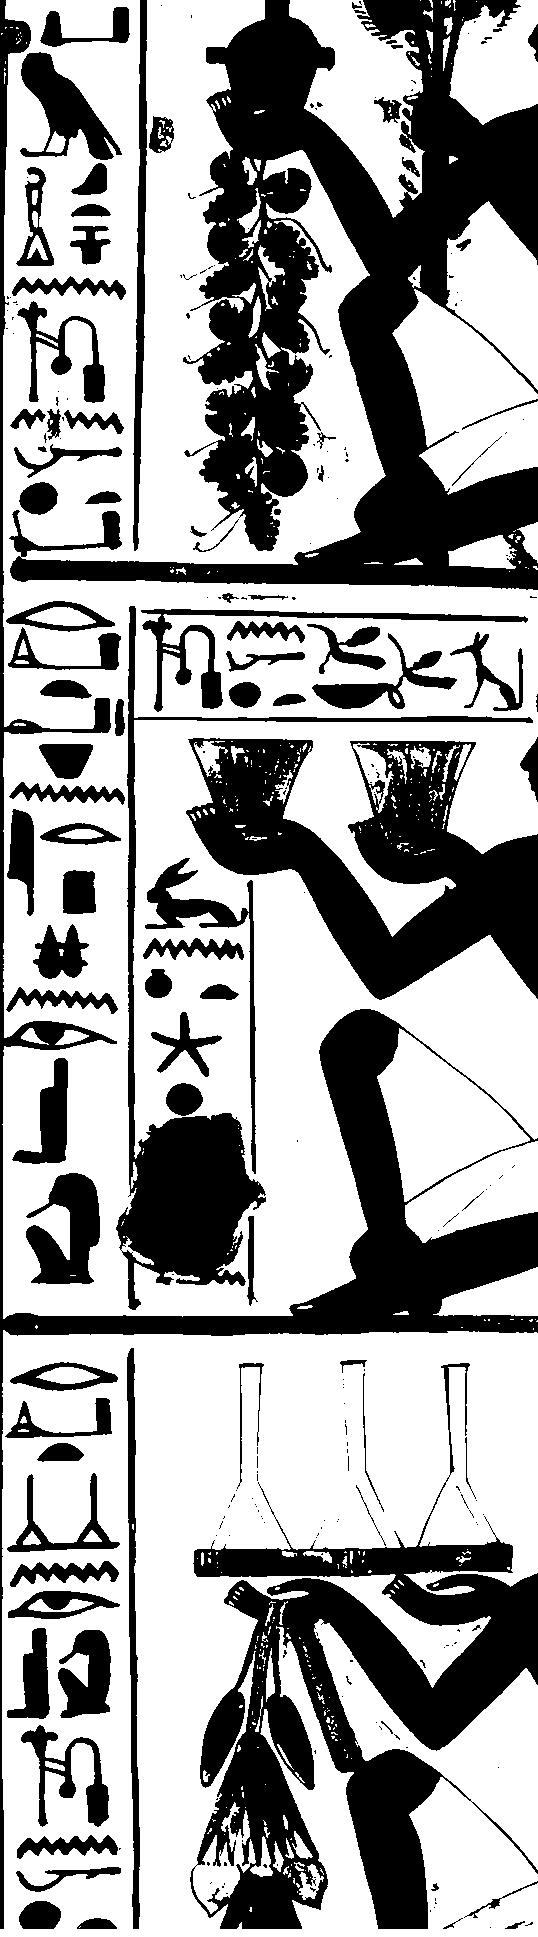Basket: (307, 678, 410, 713)
Mouth: (5, 598, 118, 631), (9, 1359, 122, 1391), (37, 817, 122, 850)
Owl: (16, 49, 130, 158)
Reed: (2, 808, 39, 919)
Water: (6, 982, 120, 1018), (9, 775, 126, 808), (10, 405, 131, 437), (9, 272, 131, 303), (9, 1557, 123, 1586), (11, 1831, 126, 1860), (142, 933, 247, 965), (226, 618, 307, 644)
